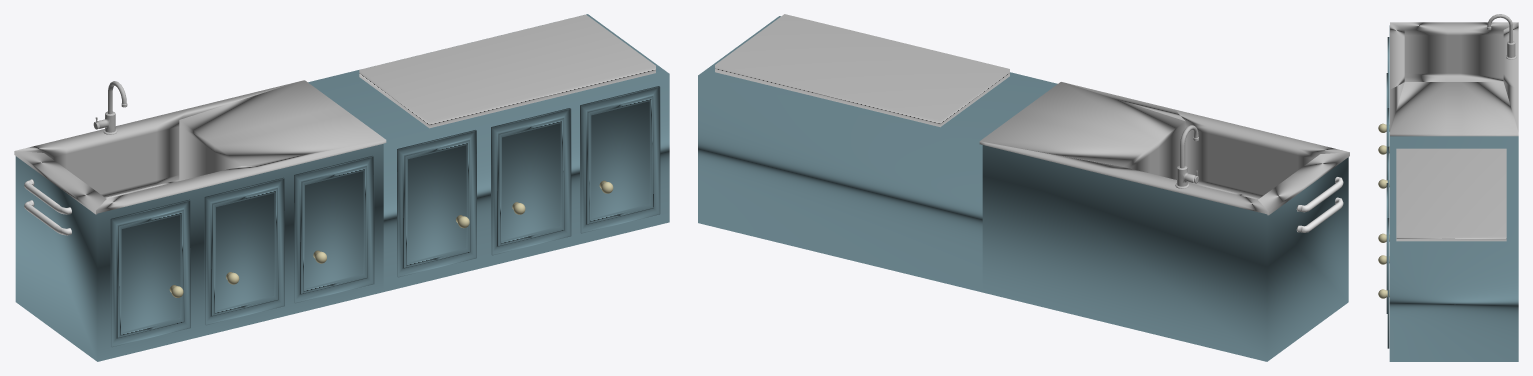
File: plan_de_travail.fbx
3 renders of one model, left to right at view 1: azimuth 30°, elevation 25°; view 2: azimuth 150°, elevation 25°; view 3: azimuth 270°, elevation 25°, orthographic. The views are drawn at different scales.
Parts seen in each view (by area): view 1: Cube_004, Cube_003, Plane_007, Plane_004, Plane_000, Plane_005, Plane_008, Plane_006; view 2: Cube_004, Cube_003; view 3: Cube_004, Cube_003, Plane_008, Plane_007, Plane_004, Plane_006, Plane_005.
Boxes of the visible parts, <box> form: Cube_004: <box>15,14,669,361</box>; Cube_003: <box>14,80,386,214</box>; Plane_007: <box>491,108,571,255</box>; Plane_004: <box>204,177,284,325</box>; Plane_000: <box>294,156,374,303</box>; Plane_005: <box>110,199,190,347</box>; Plane_008: <box>580,86,660,233</box>; Plane_006: <box>397,130,476,277</box>; Cube_004: <box>698,14,1348,361</box>; Cube_003: <box>979,82,1349,215</box>; Cube_004: <box>1389,25,1518,361</box>; Cube_003: <box>1390,14,1518,136</box>; Plane_008: <box>1387,218,1389,348</box>; Plane_007: <box>1386,183,1388,313</box>; Plane_004: <box>1386,73,1388,180</box>; Plane_006: <box>1387,146,1389,217</box>; Plane_005: <box>1387,37,1389,107</box>.
Bounding box in the file's own units: 8.31 × 2.78 × 2.17.
